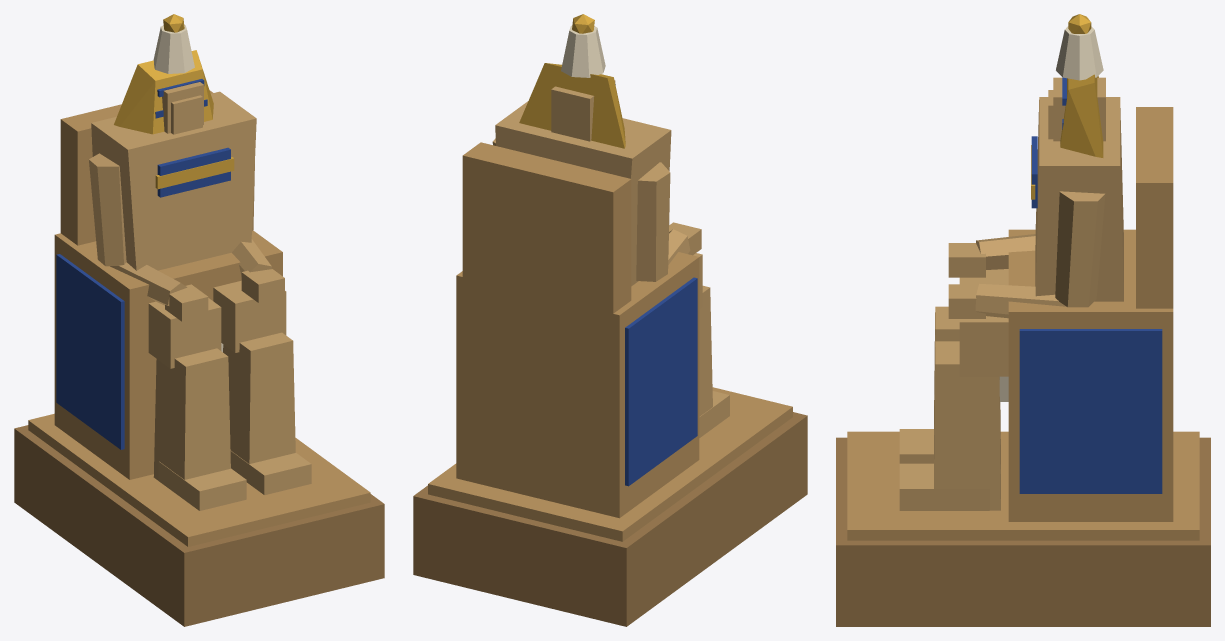
Rendered from desert_statue.glb.
3 renders of one model, left to right at view 1: azimuth 30°, elevation 25°; view 2: azimuth 150°, elevation 25°; view 3: azimuth 270°, elevation 25°, orthographic. The views are drawn at different scales.
Visible parts, largest first — view 1: desert_statue; view 2: desert_statue; view 3: desert_statue.
Boxes of the visible parts, <box> form: desert_statue: <box>14,14,384,626</box>; desert_statue: <box>413,14,807,626</box>; desert_statue: <box>836,14,1210,626</box>.
Size of the model in its own units: 3.4 by 8.23 by 5.
